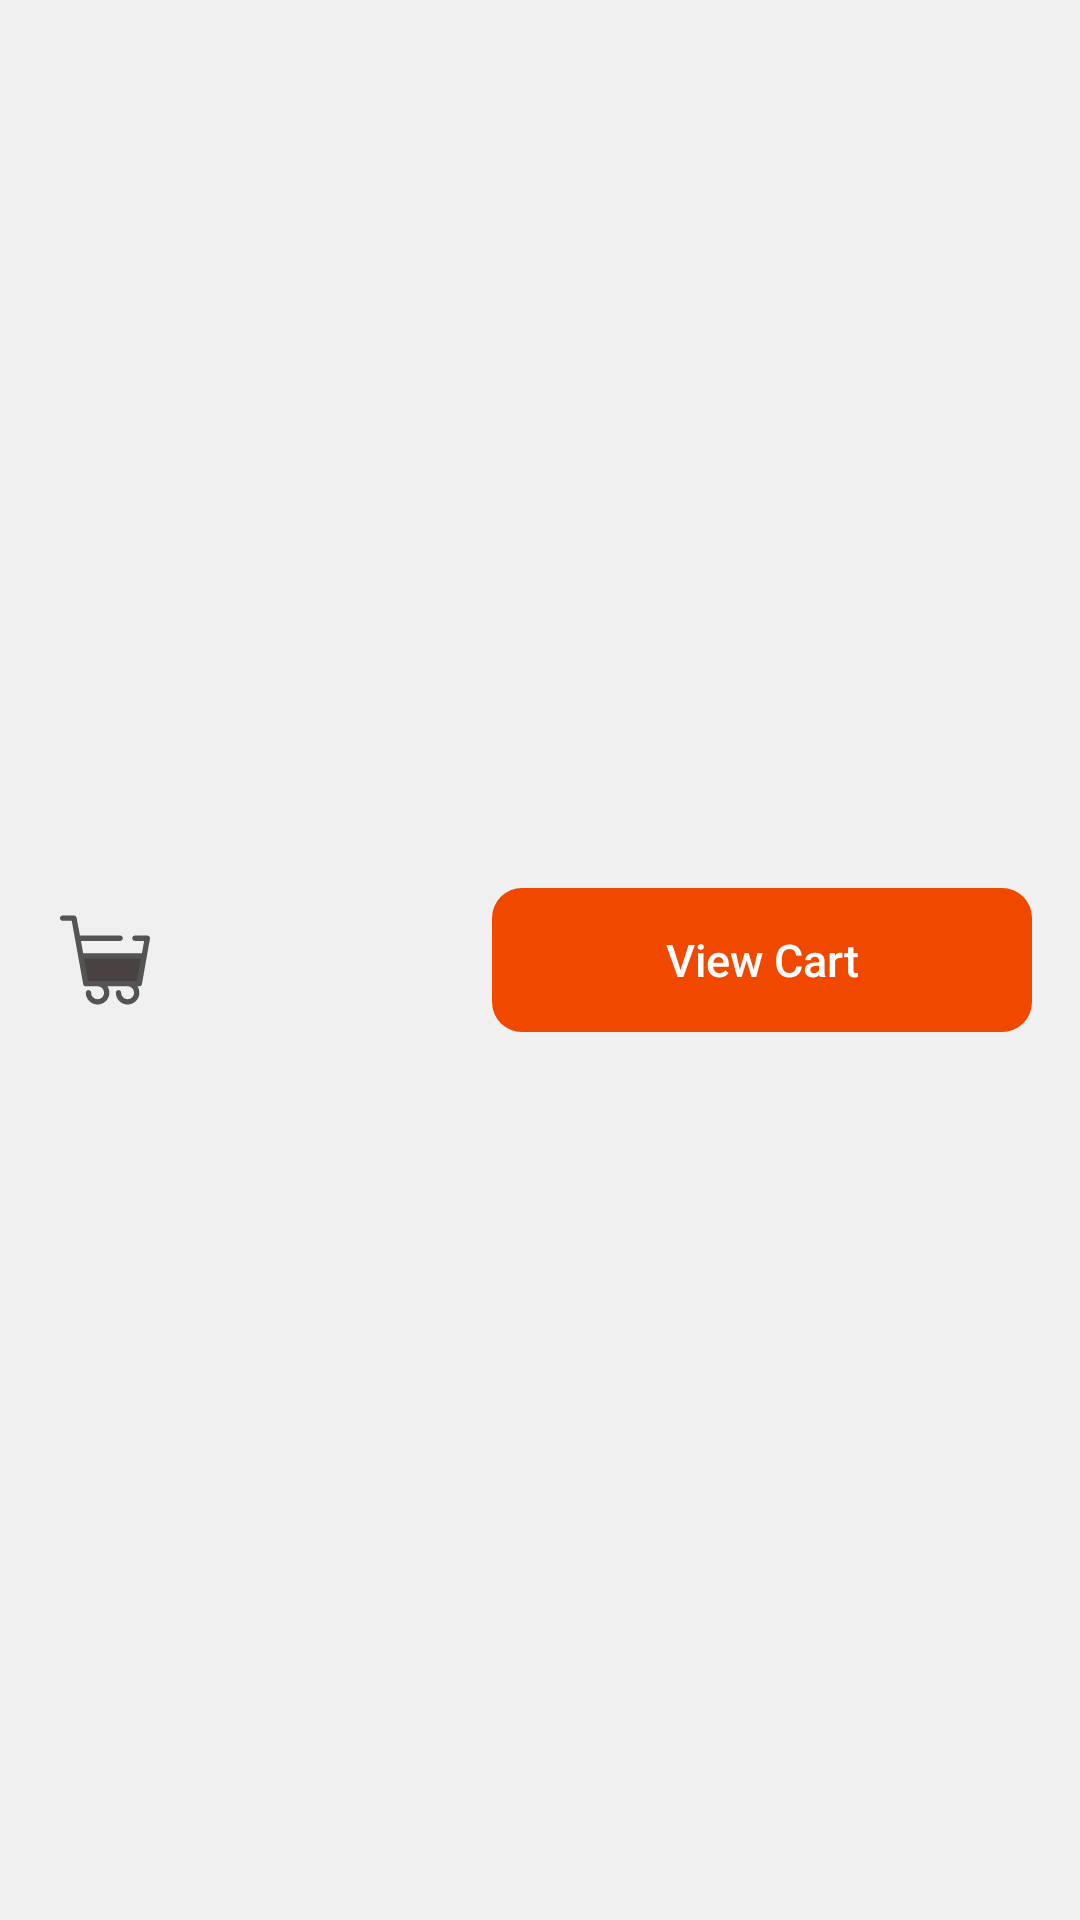

Icon click points for this 1080w x 1920h phone screenshot, format [x,y]:
cart: [105,960]
